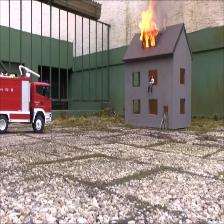fire: (141, 8, 159, 48)
